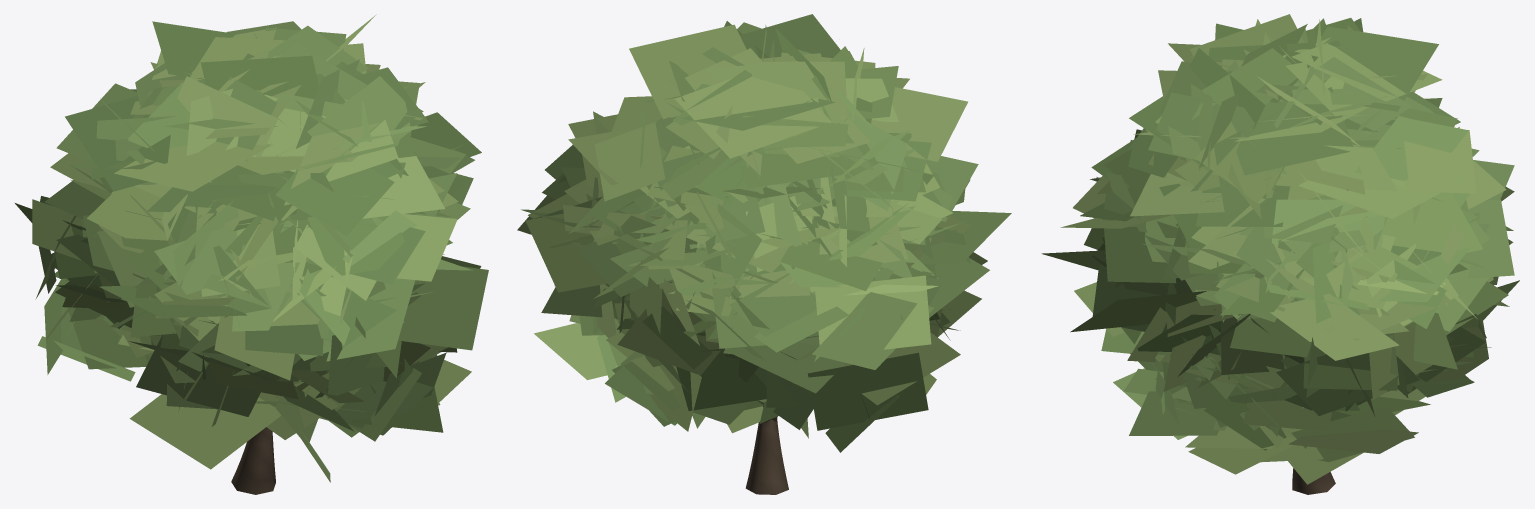
Rendered from columnar_0.glb.
3 renders of one model, left to right at view 1: azimuth 30°, elevation 25°; view 2: azimuth 150°, elevation 25°; view 3: azimuth 270°, elevation 25°, orthographic. The views are drawn at different scales.
Parts seen in each view (by area): view 1: columnar_0; view 2: columnar_0; view 3: columnar_0.
Boxes of the visible parts, box(x1,y1,x2,y2) form: columnar_0: box(15, 14, 488, 494); columnar_0: box(517, 14, 1011, 494); columnar_0: box(1041, 14, 1519, 494).
Size of the model in its own units: 1 by 1 by 0.9654.
